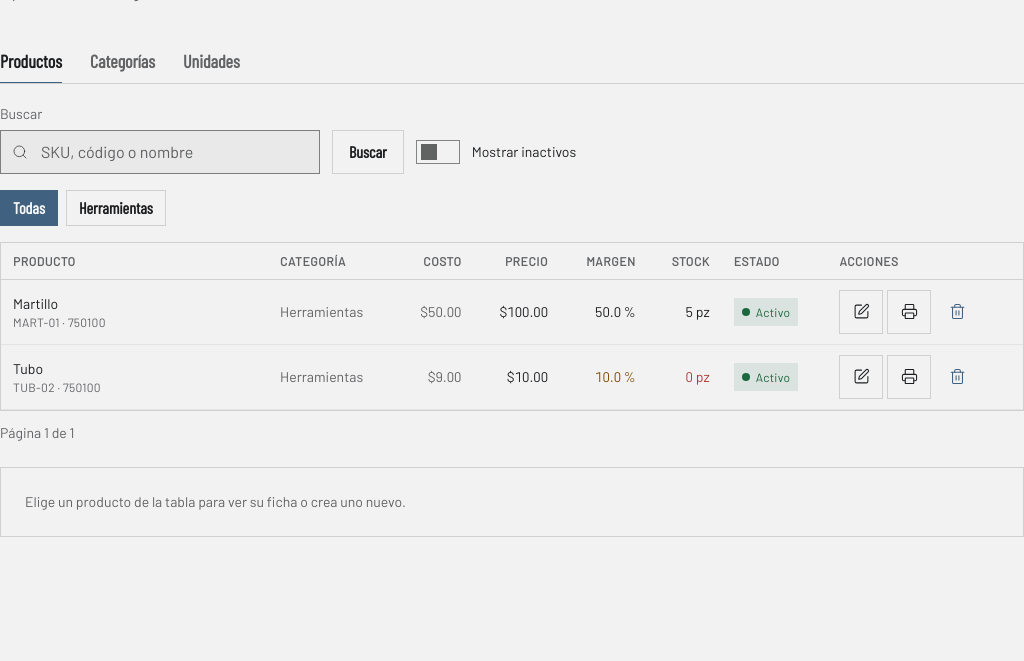
it: Productos con el diseño Industry › recalcula las métricas al cambiar el precio
Click the button "Martillo". click: {"x": 36, "y": 304}
box: [13,294,58,314]
(page scrolled)
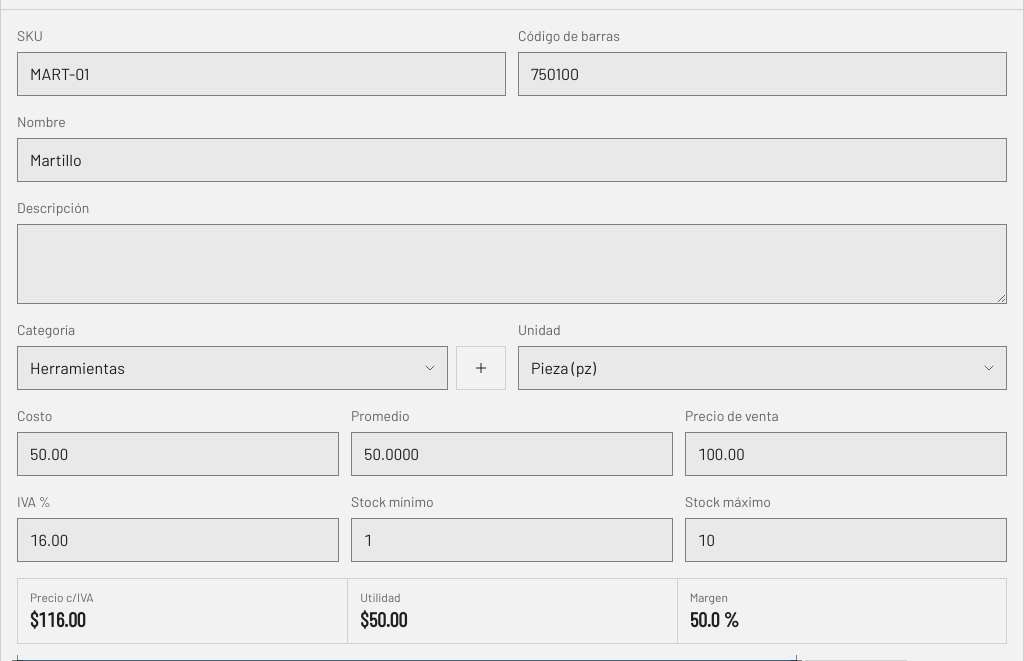
Replace the text in the number field labelled "Precio de venta" with "200". click: {"x": 846, "y": 454}
box: [685,432,1007,476]
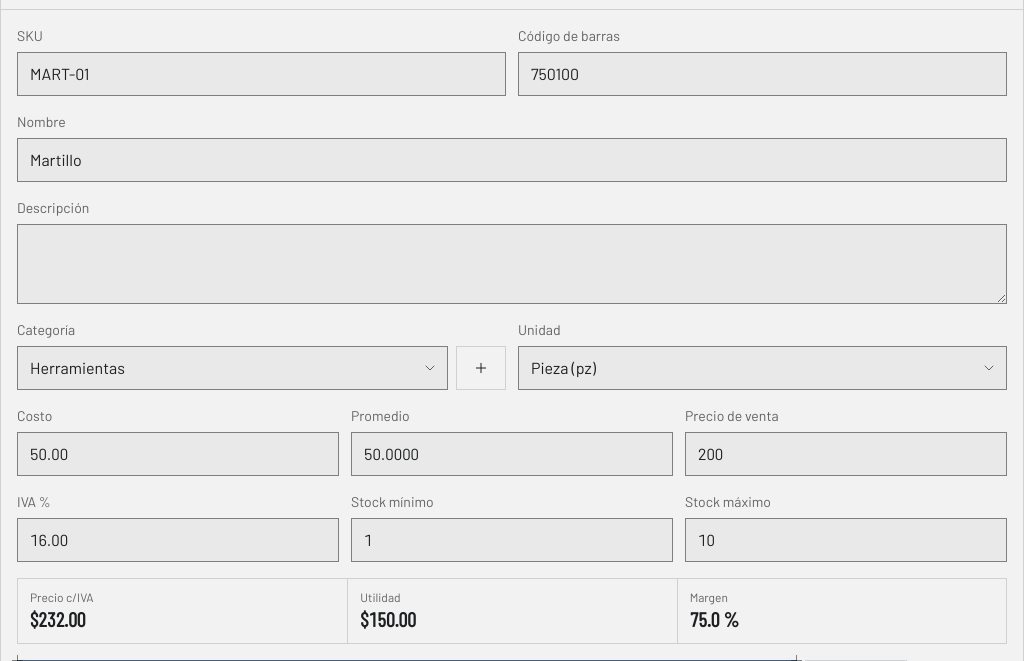
Check: the text "$232.00" is shown, box [30,607,86,631]
Check: the text "75.0 %" is shown, box [690,607,739,631]
